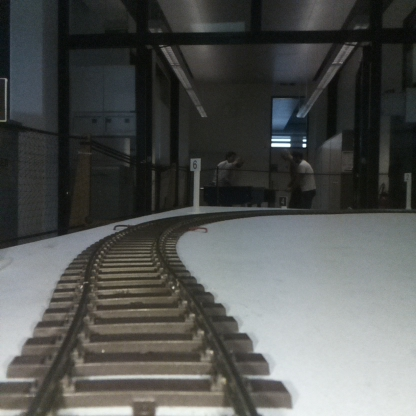white-info-6: (190, 158, 200, 209)
